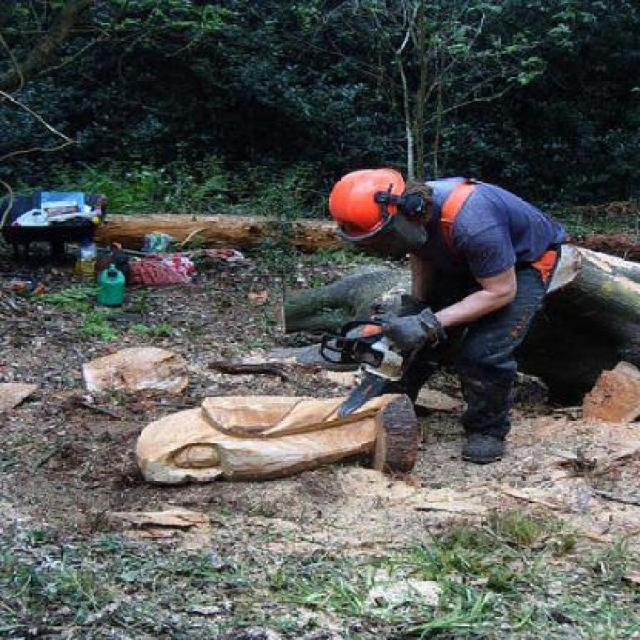Chainsaw: (316, 315, 415, 420)
